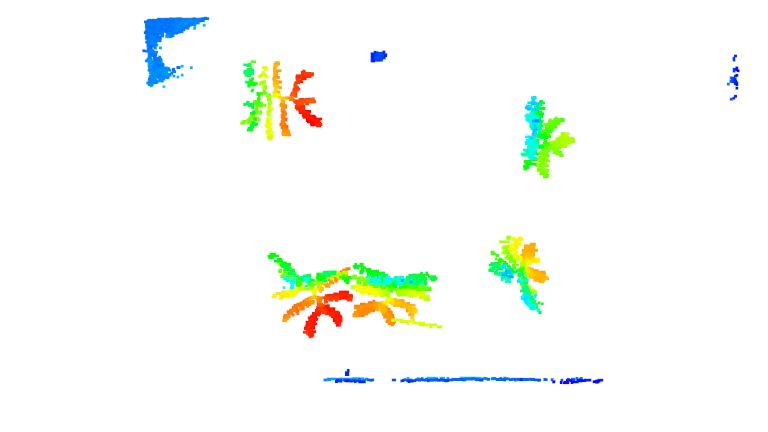chickpea: (266, 253, 352, 338), (237, 59, 324, 141), (347, 262, 436, 327), (514, 93, 576, 179), (487, 235, 548, 315)
